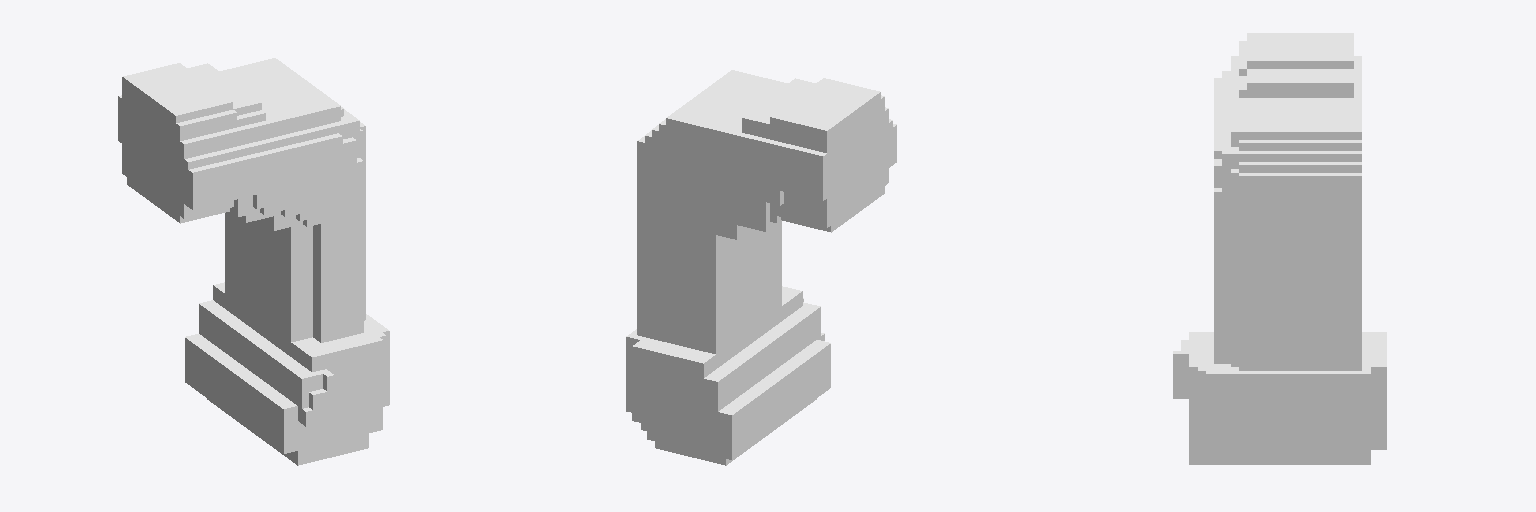
The model's file is MeleeRogatiy-0.obj.
The picture shows the model from 3 angles: view 1: azimuth 30°, elevation 25°; view 2: azimuth 150°, elevation 25°; view 3: azimuth 270°, elevation 25°; orthographic projection.
Parts seen in each view (by area): view 1: object 1; view 2: object 1; view 3: object 1.
Part boxes in pixels (bbox=[...]): object 1: bbox=[118, 58, 389, 465]; object 1: bbox=[626, 70, 896, 465]; object 1: bbox=[1173, 33, 1386, 464].
Size of the model in its own units: 2.7 by 4.7 by 2.6.